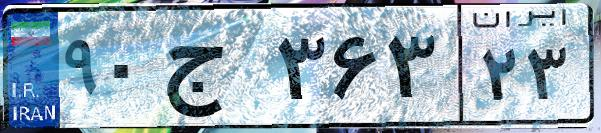0: (110, 28, 158, 98)
2: (475, 38, 525, 113)
3: (270, 28, 330, 110), (385, 28, 445, 110), (525, 38, 570, 115)
6: (330, 28, 385, 110)
9: (57, 26, 110, 100)
ج: (158, 20, 270, 120)
